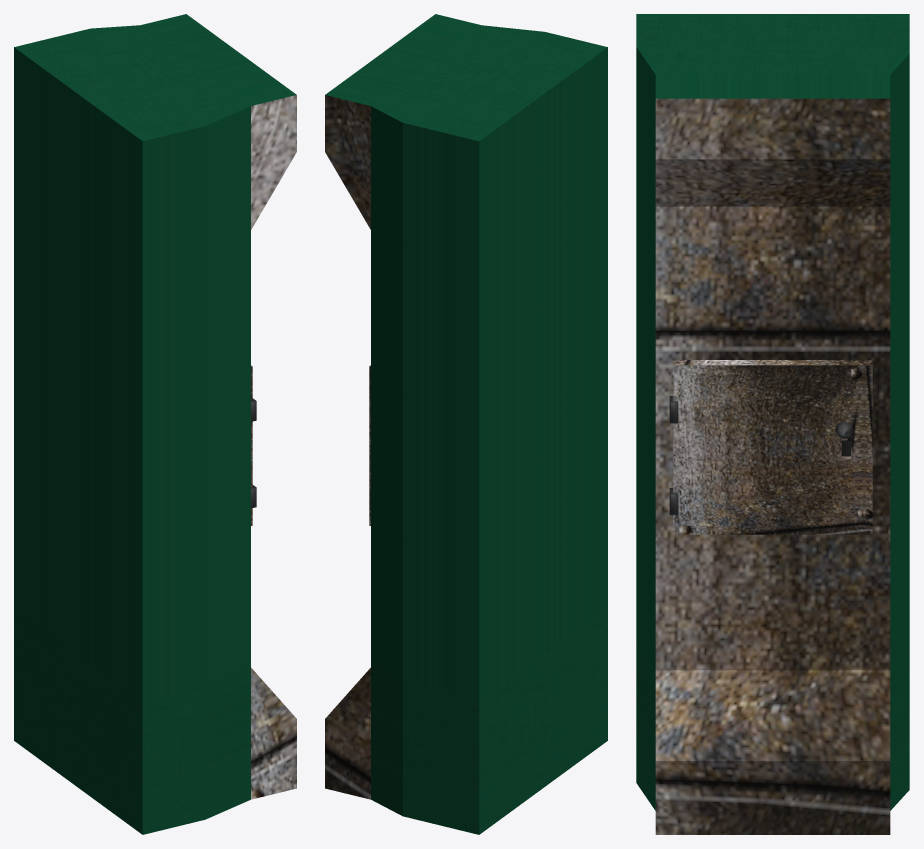
File: eletrocity.FBX
3 views of the same model, side by side, from view 1: azimuth 30°, elevation 25°; view 2: azimuth 150°, elevation 25°; view 3: azimuth 270°, elevation 25° (orthographic). The views are drawn at different scales.
Visible parts, largest first — view 1: Box001, Object004; view 2: Box001, Object004; view 3: Object004, Box001, Object001.
Boxes of the visible parts, <box> form: Box001: <box>14,14,296,834</box>; Object004: <box>251,95,296,799</box>; Box001: <box>325,14,607,834</box>; Object004: <box>325,95,370,799</box>; Object004: <box>655,98,890,834</box>; Box001: <box>636,14,909,810</box>; Object001: <box>673,360,872,534</box>.
Bounding box in the file's own units: 42.52 × 173 × 58.05.
Materials: 5 (5 with a texture image).
